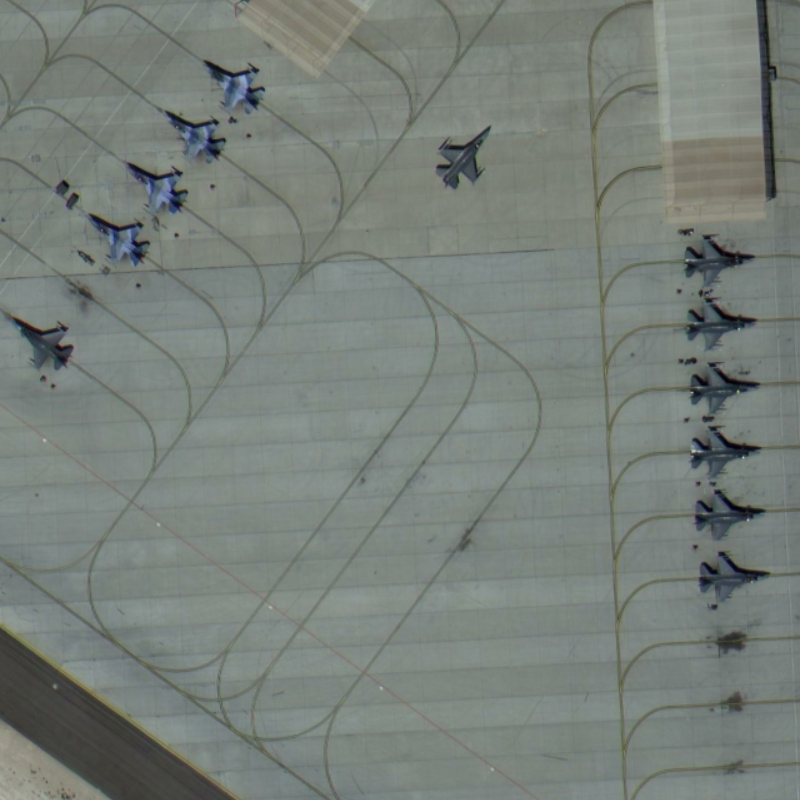A5: (1, 306, 82, 384), (427, 116, 504, 194), (194, 50, 273, 125), (690, 542, 773, 613), (677, 420, 764, 486), (681, 357, 766, 423), (119, 151, 199, 220), (687, 483, 771, 547), (677, 226, 761, 289), (80, 205, 153, 275), (682, 291, 759, 355), (159, 106, 230, 167)
